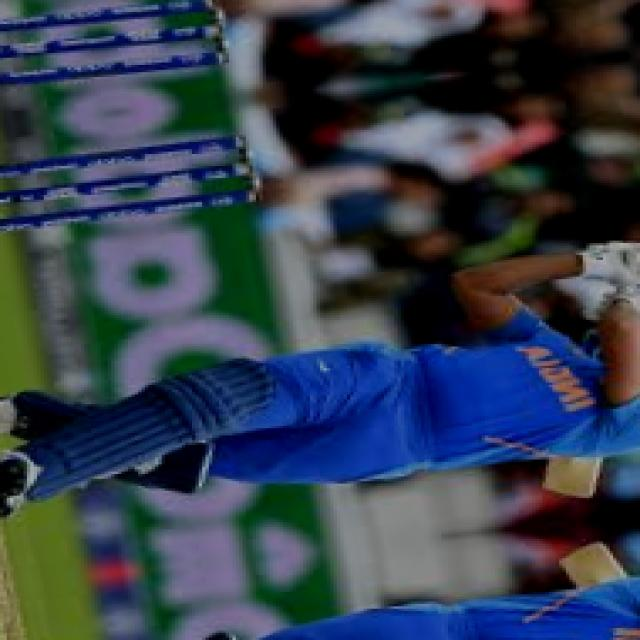toe: (538, 475, 604, 504)
